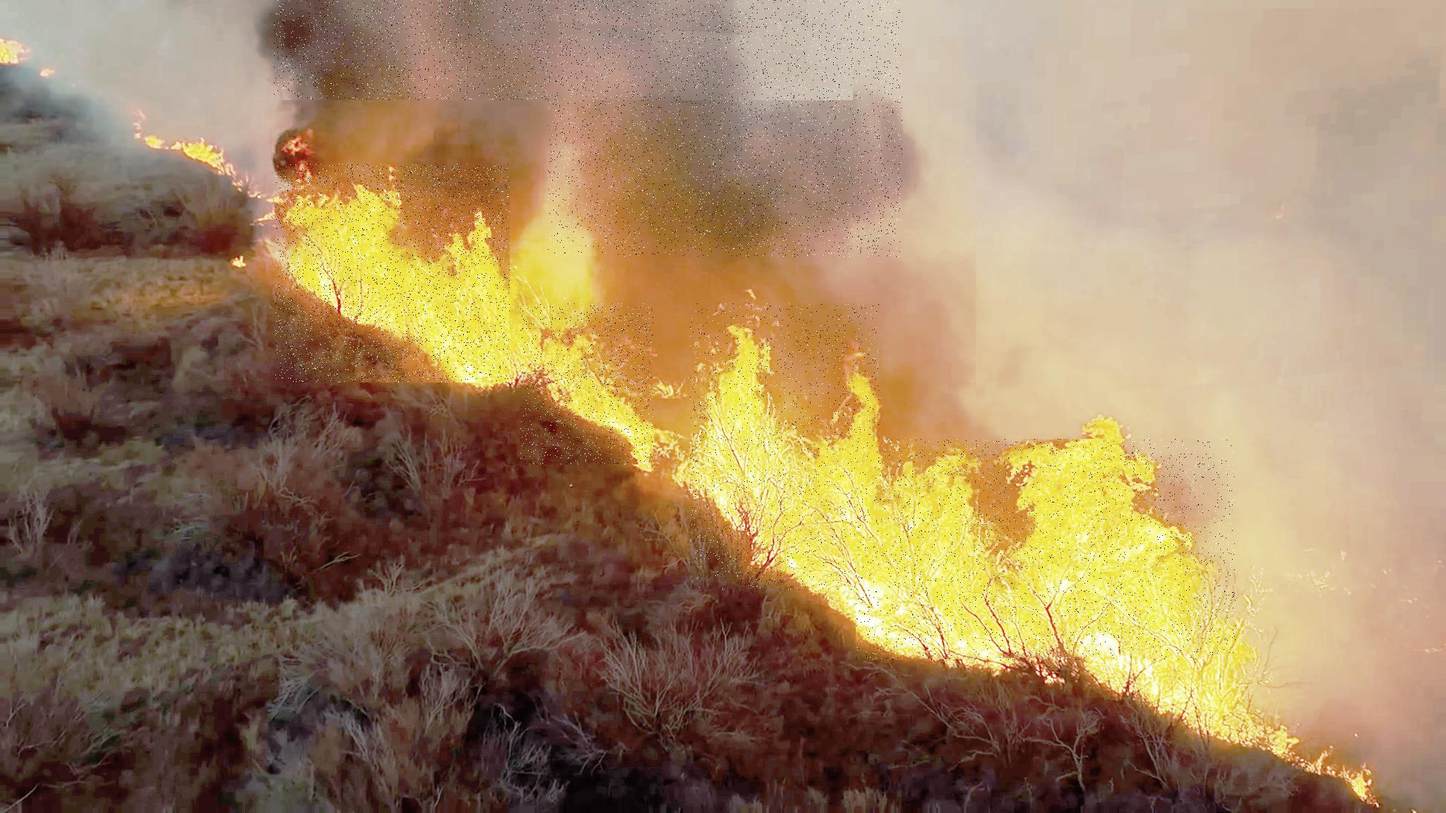fire: (856, 439, 1236, 661), (690, 303, 879, 590), (275, 164, 510, 382), (520, 304, 653, 464)
smoke: (976, 8, 1446, 407), (548, 0, 902, 257), (274, 0, 853, 100)
